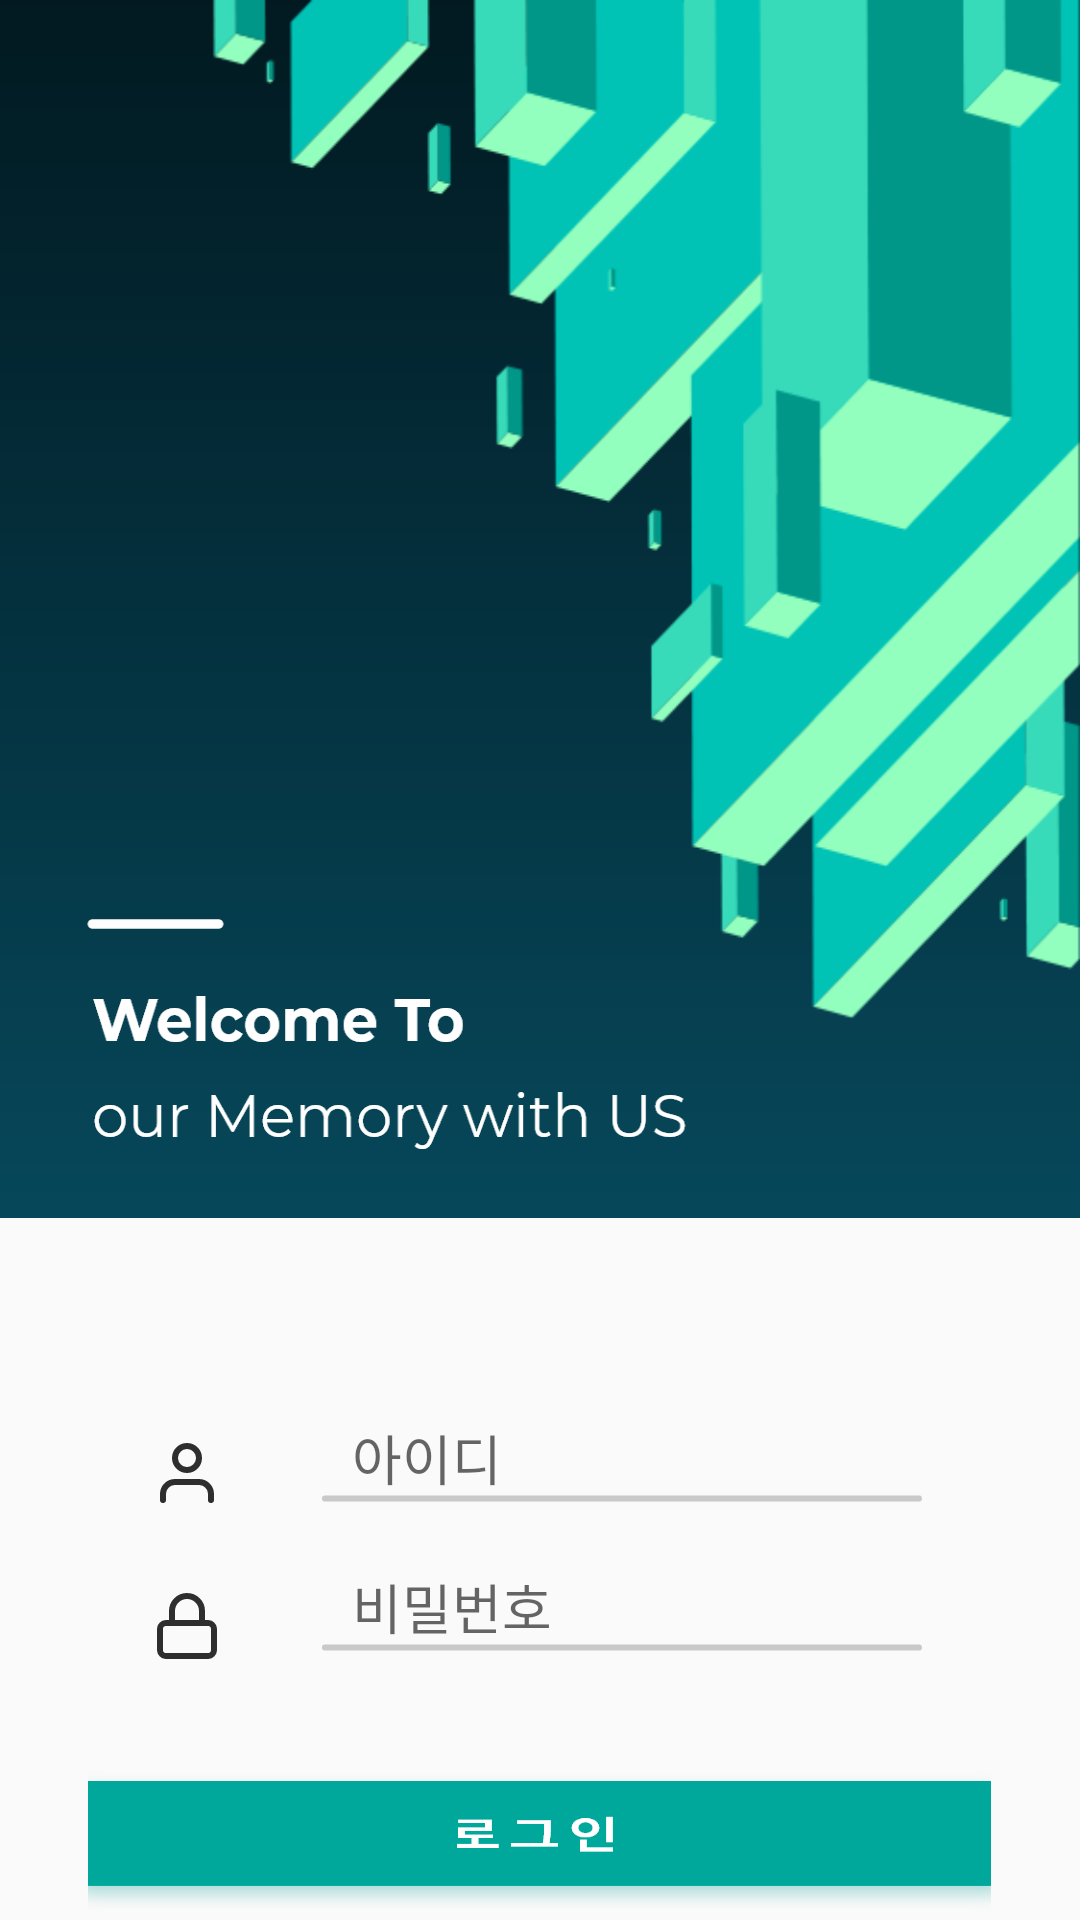

Where to tap for icons on this 1080 × 1920 app screen, as point (x, y):
feather lock: point (187, 1626)
feather user: point (187, 1473)
